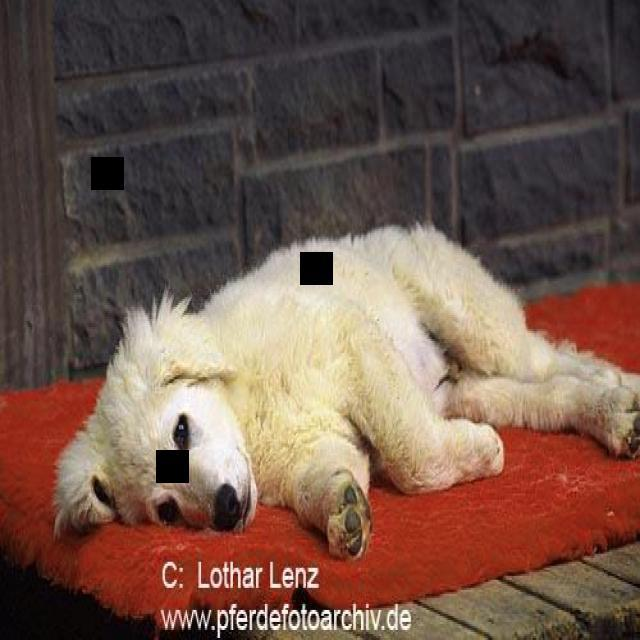puppy-dog: (46, 215, 640, 560)
